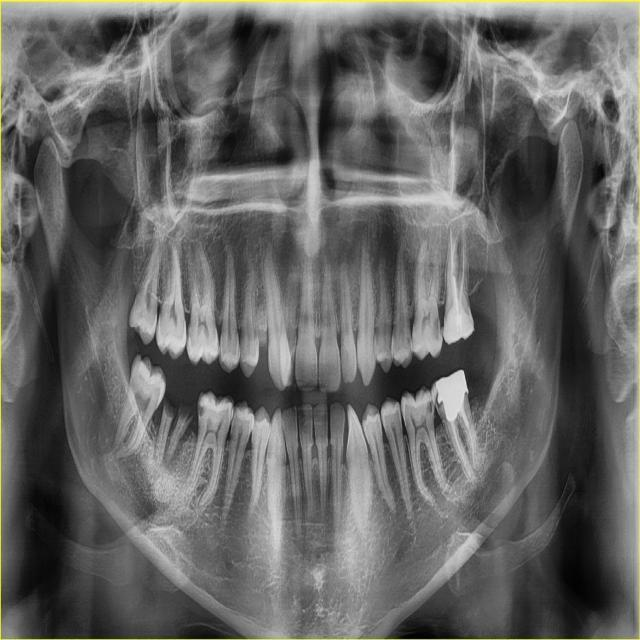Caries: (432, 315, 443, 345), (426, 397, 434, 416), (434, 396, 443, 408), (197, 403, 205, 416), (374, 327, 379, 344), (407, 334, 411, 352), (388, 336, 391, 351)
Filling: (435, 369, 468, 423), (444, 300, 474, 343)
Periapical lesion: (150, 421, 193, 471), (196, 489, 211, 510)
Root Canal Treatment: (450, 420, 469, 471), (450, 232, 458, 307), (449, 226, 455, 303), (458, 235, 464, 305), (467, 425, 474, 468)
Root Piece: (155, 395, 176, 466), (166, 406, 192, 460)
